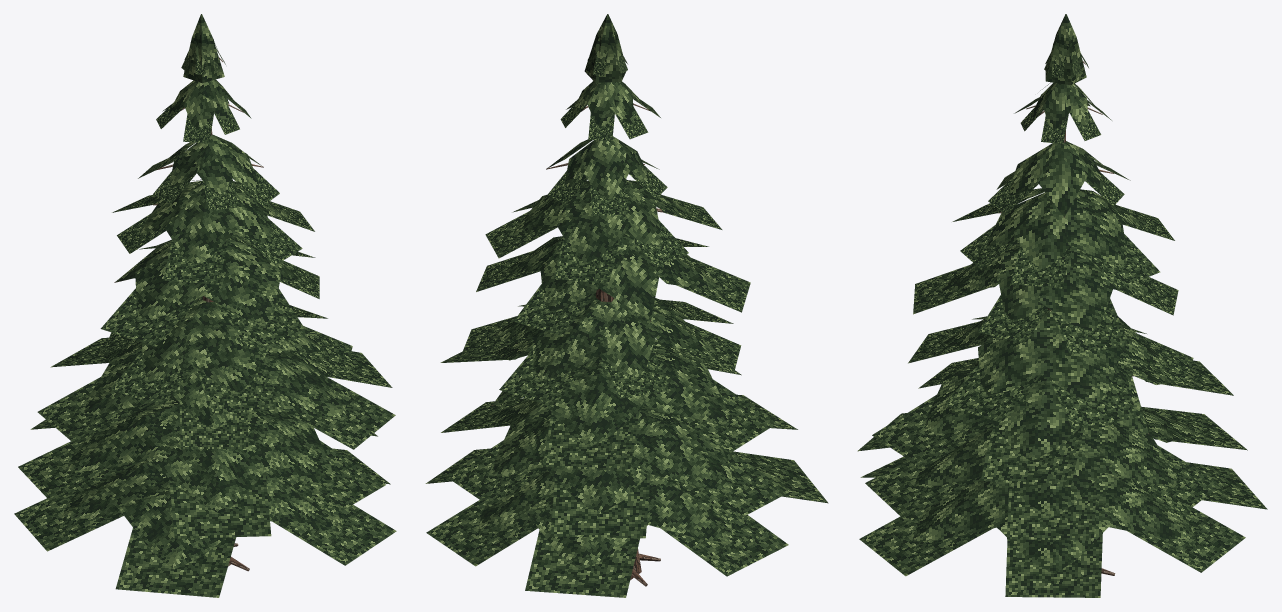
Rendered from TREE_Spruce_B_LOD1.glb.
3 views of the same model, side by side, from view 1: azimuth 30°, elevation 25°; view 2: azimuth 150°, elevation 25°; view 3: azimuth 270°, elevation 25° (orthographic). The views are drawn at different scales.
Parts seen in each view (by area): view 1: TREE_Spruce_B_LOD1__Foliage, TREE_Spruce_B_LOD1__Card; view 2: TREE_Spruce_B_LOD1__Foliage, TREE_Spruce_B_LOD1__Card, TREE_Spruce_B_LOD1__Bark; view 3: TREE_Spruce_B_LOD1__Foliage, TREE_Spruce_B_LOD1__Card.
Boxes of the visible parts, x1,y1,x2,y2 form: TREE_Spruce_B_LOD1__Foliage: [61, 14, 348, 569]; TREE_Spruce_B_LOD1__Card: [14, 48, 396, 597]; TREE_Spruce_B_LOD1__Foliage: [478, 14, 776, 570]; TREE_Spruce_B_LOD1__Card: [425, 50, 828, 597]; TREE_Spruce_B_LOD1__Bark: [491, 103, 663, 586]; TREE_Spruce_B_LOD1__Foliage: [912, 14, 1196, 573]; TREE_Spruce_B_LOD1__Card: [857, 51, 1267, 597].
Bounding box in the file's own units: 7.22 × 11.51 × 7.6.
3 materials, 3 textured.
